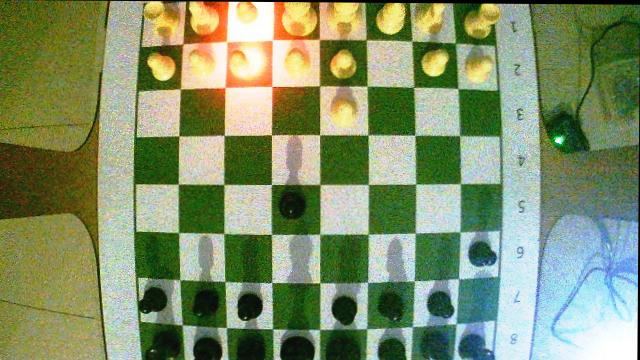piece: (281, 2, 319, 35), (144, 1, 178, 36), (466, 4, 499, 39), (327, 3, 359, 34), (190, 1, 219, 35), (379, 290, 406, 323), (281, 335, 316, 360), (376, 3, 405, 33), (415, 3, 444, 33), (330, 50, 358, 79), (330, 96, 357, 126), (421, 48, 449, 76), (146, 334, 176, 360), (279, 188, 305, 218), (460, 335, 491, 360), (148, 52, 175, 80), (331, 295, 357, 324), (323, 338, 356, 360), (235, 336, 265, 360), (423, 334, 450, 360), (139, 287, 166, 313), (193, 336, 221, 360), (427, 291, 455, 315), (378, 336, 405, 360), (239, 292, 263, 319), (285, 47, 309, 74), (230, 52, 259, 74), (468, 243, 496, 265), (465, 56, 488, 81), (194, 290, 216, 315), (235, 2, 259, 24), (190, 51, 208, 74)
